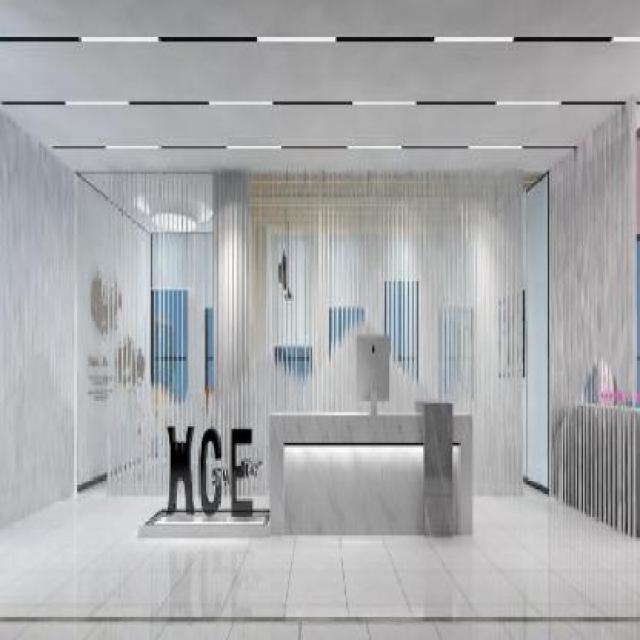frontdesk: (264, 397, 478, 549)
